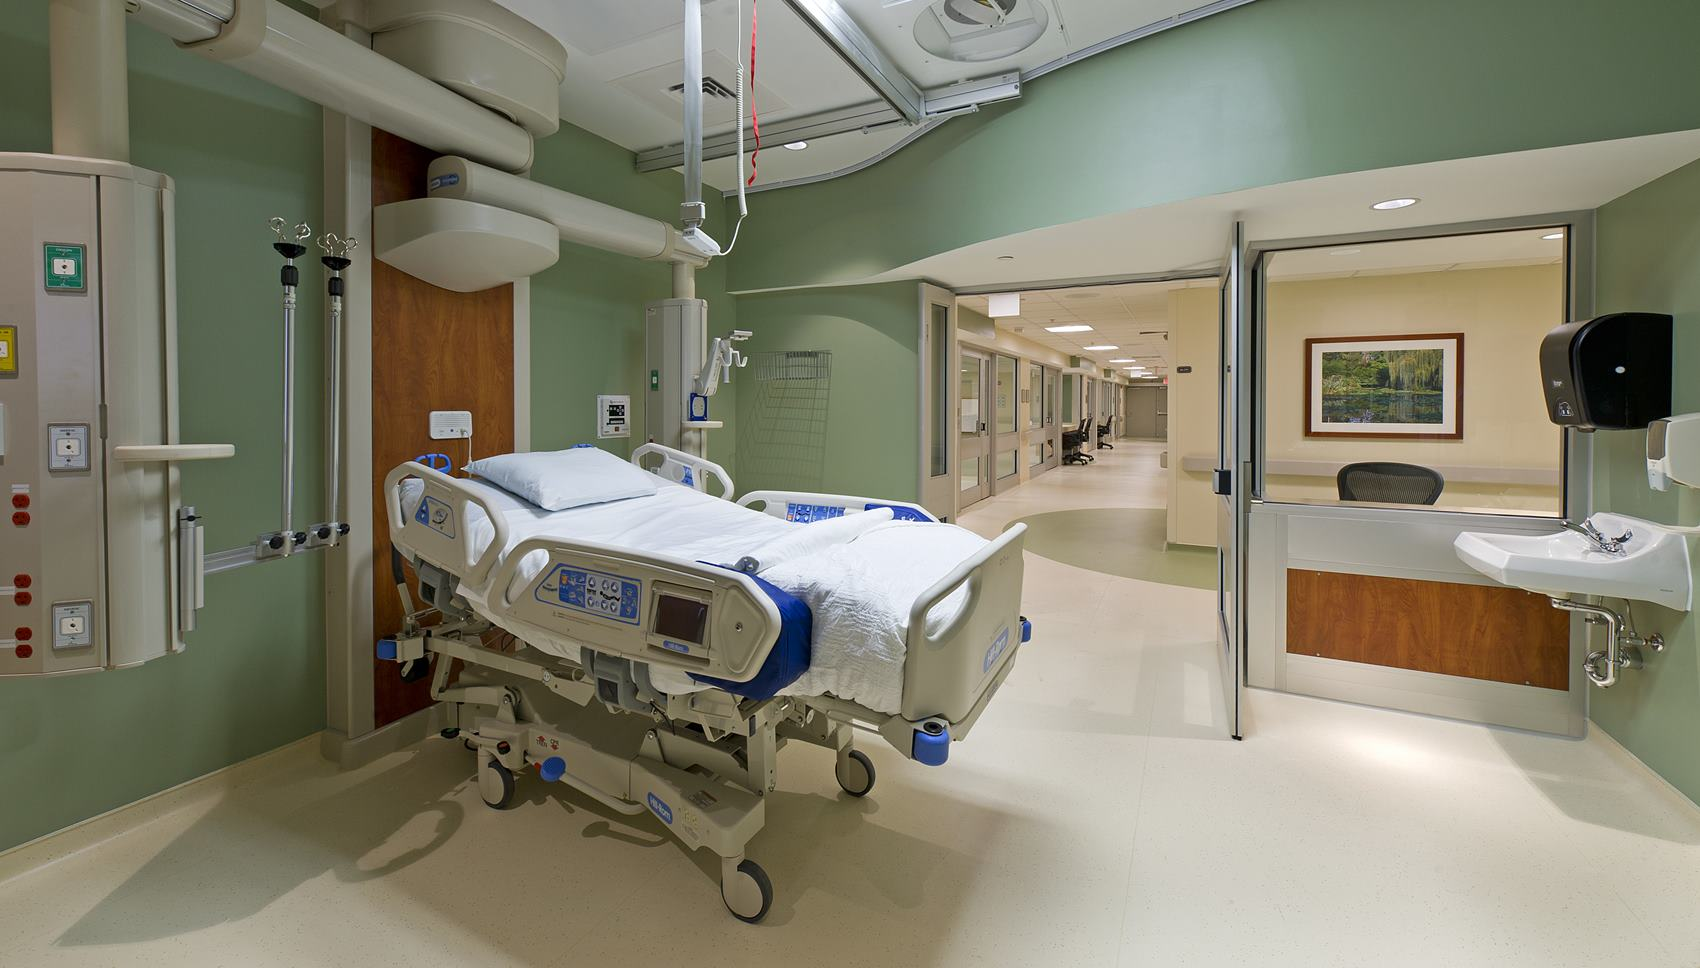bedrail: (494, 532, 790, 688), (368, 466, 506, 584), (616, 436, 746, 508), (737, 476, 920, 522)
chair: (1342, 440, 1441, 502), (1064, 418, 1094, 465), (1093, 415, 1115, 451)
counter: (1240, 481, 1546, 734)
countertop: (1262, 488, 1546, 523)
dispenser: (1521, 298, 1679, 437), (1637, 415, 1700, 506)
faucet: (1569, 514, 1633, 560)
foot_board: (900, 518, 1061, 769)
hospital_bed: (364, 401, 1089, 906)
iv_pole: (265, 204, 313, 530), (316, 228, 358, 525)
sink: (1416, 506, 1700, 675)
